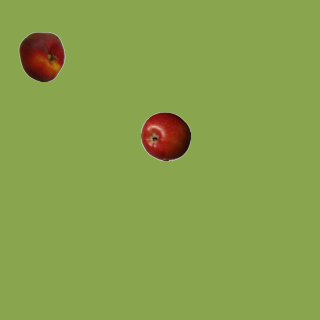Apple Braeburn: (140, 111, 190, 161)
Nectarine Flat: (16, 31, 66, 81)
